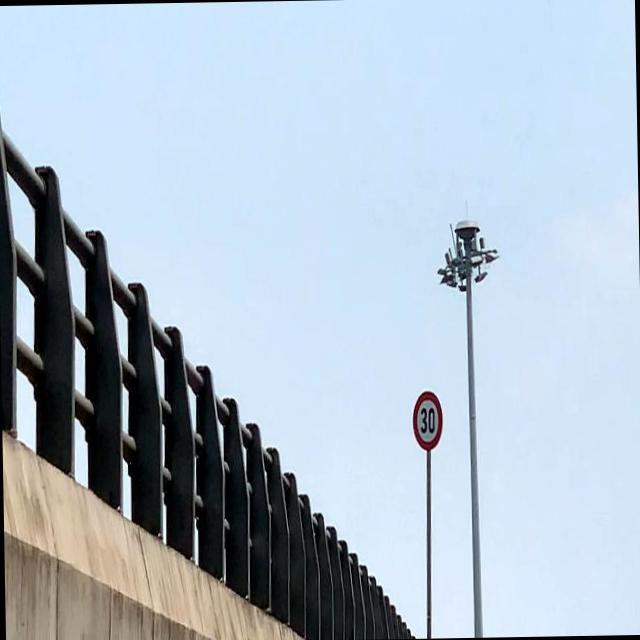P-127: (413, 390, 444, 449)
